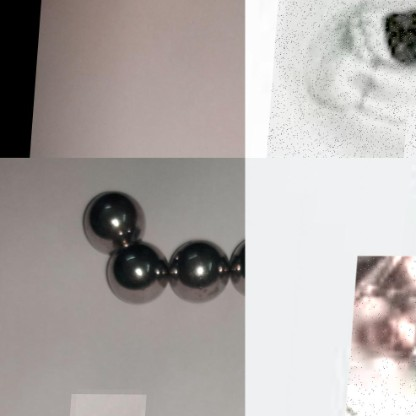ironball: (269, 0, 415, 157), (350, 254, 415, 415), (76, 188, 153, 249), (98, 239, 168, 306), (168, 233, 227, 305), (70, 393, 150, 415), (224, 231, 244, 302)
